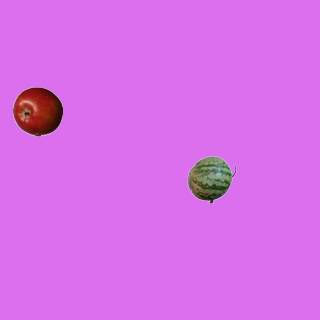Apple Braeburn: (12, 86, 62, 136)
Watermelon: (186, 154, 236, 204)
